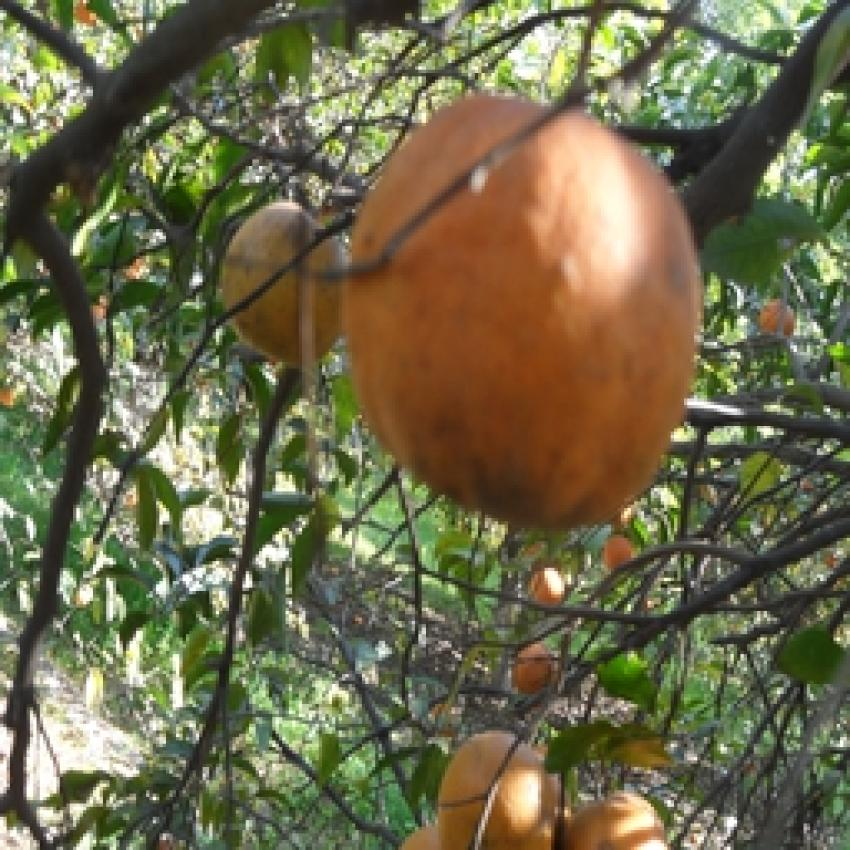Mal estado: (346, 84, 698, 548), (216, 186, 345, 376)
